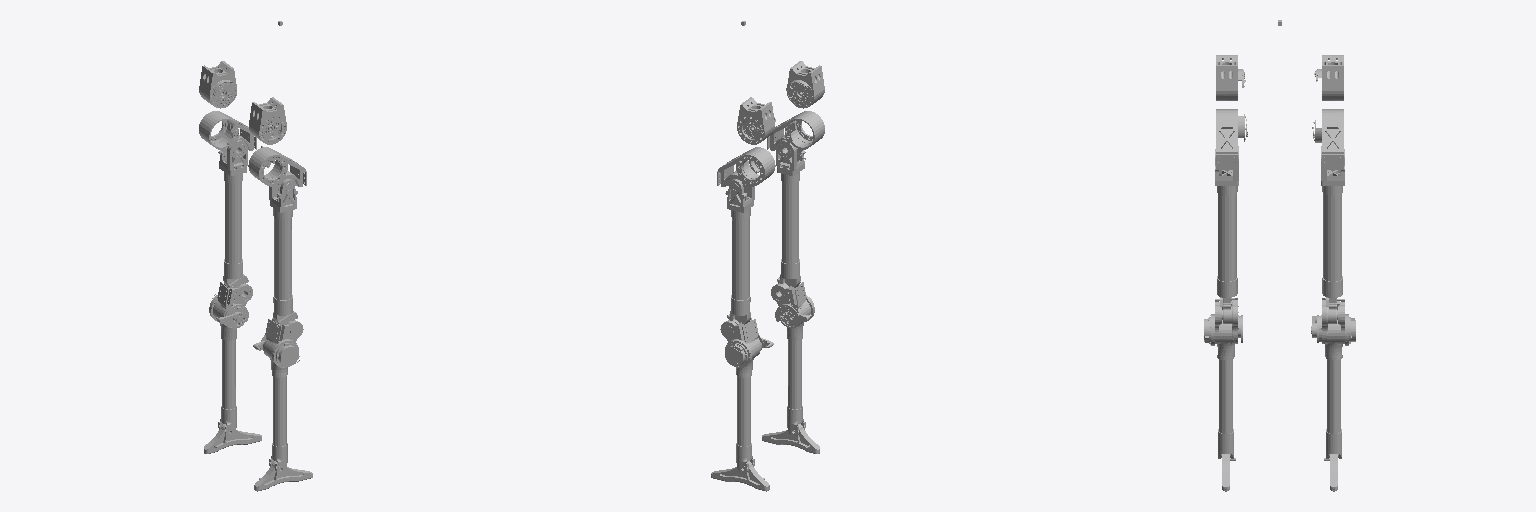
robot.urdf — casia_nnn:
<?xml version="1.0" encoding="utf-8"?>
<!-- This URDF was automatically created by SolidWorks to URDF Exporter! Originally created by [author] ([email redacted]) 
     Commit Version: 1.5.1-0-g916b5db  Build Version: 1.5.7152.31018
     For more information, please see http://wiki.ros.org/sw_urdf_exporter -->
<robot
  name="casia_nnn">
  <link
    name="pelvis">
    <inertial>
      <origin
        xyz="0.0295583628182488 3.89626767704742E-05 -0.0155783424997369"
        rpy="0 0 0" />
      <mass
        value="6.56964969274137" />
      <inertia
        ixx="0.0235604863264443"
        ixy="-2.84451907912671E-06"
        ixz="7.97597097465651E-06"
        iyy="0.014455865873678"
        iyz="-6.61650817705804E-07"
        izz="0.010763598299641" />
    </inertial>
    <visual>
      <origin
        xyz="0 0 0"
        rpy="0 0 0" />
      <geometry>
        <mesh
          filename="package://meshes/pelvis.STL" />
      </geometry>
      <material
        name="">
        <color
          rgba="0.898039215686275 0.917647058823529 0.929411764705882 1" />
      </material>
    </visual>
    <collision>
      <origin
        xyz="0 0 0"
        rpy="0 0 0" />
      <geometry>
        <mesh
          filename="package://meshes/pelvis.STL" />
      </geometry>
    </collision>
  </link>
  <link
    name="r_hip_roll">
    <inertial>
      <origin
        xyz="-0.0197574983038807 6.70238844219795E-05 -0.0794288941787985"
        rpy="0 0 0" />
      <mass
        value="1.97423093969954" />
      <inertia
        ixx="0.00185917486275064"
        ixy="1.49050941020278E-06"
        ixz="6.47326004132642E-06"
        iyy="0.00121028974020037"
        iyz="-5.40839098441053E-07"
        izz="0.00117581613527246" />
    </inertial>
    <visual>
      <origin
        xyz="0 0 0"
        rpy="0 0 0" />
      <geometry>
        <mesh
          filename="package://meshes/r_hip_roll.STL" />
      </geometry>
      <material
        name="">
        <color
          rgba="0.752941176470588 0.752941176470588 0.752941176470588 1" />
      </material>
    </visual>
    <collision>
      <origin
        xyz="0 0 0"
        rpy="0 0 0" />
      <geometry>
        <mesh
          filename="package://meshes/r_hip_roll.STL" />
      </geometry>
    </collision>
  </link>
  <joint
    name="hip_abduction_right"
    type="revolute">
    <origin
      xyz="0.018 -0.13451 -0.047805"
      rpy="0 1.5708 0" />
    <parent
      link="pelvis" />
    <child
      link="r_hip_roll" />
    <axis
      xyz="0 0 1" />
    <limit
      lower="0"
      upper="0"
      effort="0"
      velocity="0" />
  </joint>
  <link
    name="r_hip_yaw">
    <inertial>
      <origin
        xyz="-4.73889253360255E-05 0.00363016329238428 0.0883973830149817"
        rpy="0 0 0" />
      <mass
        value="2.43369646822" />
      <inertia
        ixx="0.00169395681390459"
        ixy="-1.50517004982332E-07"
        ixz="2.19244261847111E-06"
        iyy="0.0023433394596445"
        iyz="3.68852375683399E-05"
        izz="0.00159777296295112" />
    </inertial>
    <visual>
      <origin
        xyz="0 0 0"
        rpy="0 0 0" />
      <geometry>
        <mesh
          filename="package://meshes/r_hip_yaw.STL" />
      </geometry>
      <material
        name="">
        <color
          rgba="0.752941176470588 0.752941176470588 0.752941176470588 1" />
      </material>
    </visual>
    <collision>
      <origin
        xyz="0 0 0"
        rpy="0 0 0" />
      <geometry>
        <mesh
          filename="package://meshes/r_hip_yaw.STL" />
      </geometry>
    </collision>
  </link>
  <joint
    name="hip_rotation_right"
    type="revolute">
    <origin
      xyz="0 0 -0.0805"
      rpy="0 1.5708 0" />
    <parent
      link="r_hip_roll" />
    <child
      link="r_hip_yaw" />
    <axis
      xyz="0 0 1" />
    <limit
      lower="0"
      upper="0"
      effort="0"
      velocity="0" />
  </joint>
  <link
    name="r_thigh">
    <inertial>
      <origin
        xyz="0.0836860395362498 -3.7239087888552E-05 0.0307488396151617"
        rpy="0 0 0" />
      <mass
        value="5.11194929866955" />
      <inertia
        ixx="0.00348978760159565"
        ixy="3.55171620968967E-07"
        ixz="1.58824327382398E-05"
        iyy="0.00583334460011164"
        iyz="2.69951318167478E-07"
        izz="0.00789275874980473" />
    </inertial>
    <visual>
      <origin
        xyz="0 0 0"
        rpy="0 0 0" />
      <geometry>
        <mesh
          filename="package://meshes/r_thigh.STL" />
      </geometry>
      <material
        name="">
        <color
          rgba="0.752941176470588 0.752941176470588 0.752941176470588 1" />
      </material>
    </visual>
    <collision>
      <origin
        xyz="0 0 0"
        rpy="0 0 0" />
      <geometry>
        <mesh
          filename="package://meshes/r_thigh.STL" />
      </geometry>
    </collision>
  </link>
  <joint
    name="hip_flexion_right"
    type="revolute">
    <origin
      xyz="0 0 0.093"
      rpy="1.5708 -1.5708 0" />
    <parent
      link="r_hip_yaw" />
    <child
      link="r_thigh" />
    <axis
      xyz="0 0 1" />
    <limit
      lower="0"
      upper="0"
      effort="0"
      velocity="0" />
  </joint>
  <link
    name="r_knee">
    <inertial>
      <origin
        xyz="0.0399329461021631 0.0403813921291037 0.000672234013588208"
        rpy="0 0 0" />
      <mass
        value="0.793319961636066" />
      <inertia
        ixx="0.00122741647674468"
        ixy="-0.000346422316130289"
        ixz="4.7570326531063E-05"
        iyy="0.000989188932431494"
        iyz="5.58070386309392E-05"
        izz="0.00180298433143509" />
    </inertial>
    <visual>
      <origin
        xyz="0 0 0"
        rpy="0 0 0" />
      <geometry>
        <mesh
          filename="package://meshes/r_knee.STL" />
      </geometry>
      <material
        name="">
        <color
          rgba="0.752941176470588 0.752941176470588 0.752941176470588 1" />
      </material>
    </visual>
    <collision>
      <origin
        xyz="0 0 0"
        rpy="0 0 0" />
      <geometry>
        <mesh
          filename="package://meshes/r_knee.STL" />
      </geometry>
    </collision>
  </link>
  <joint
    name="knee_joint_right"
    type="revolute">
    <origin
      xyz="0.12 0 0"
      rpy="0 0 0" />
    <parent
      link="r_thigh" />
    <child
      link="r_knee" />
    <axis
      xyz="0 0 1" />
    <limit
      lower="0"
      upper="0"
      effort="0"
      velocity="0" />
  </joint>
  <link
    name="r_shin">
    <inertial>
      <origin
        xyz="0.224004991514291 0.00427070271678191 -0.000872271301322419"
        rpy="0 0 0" />
      <mass
        value="0.779006446258407" />
      <inertia
        ixx="0.000390924039802326"
        ixy="-7.34108384213993E-05"
        ixz="4.91911566620427E-05"
        iyy="0.0020489227739414"
        iyz="2.22083842326094E-06"
        izz="0.00211050664366208" />
    </inertial>
    <visual>
      <origin
        xyz="0 0 0"
        rpy="0 0 0" />
      <geometry>
        <mesh
          filename="package://meshes/r_shin.STL" />
      </geometry>
      <material
        name="">
        <color
          rgba="0.752941176470588 0.752941176470588 0.752941176470588 1" />
      </material>
    </visual>
    <collision>
      <origin
        xyz="0 0 0"
        rpy="0 0 0" />
      <geometry>
        <mesh
          filename="package://meshes/r_shin.STL" />
      </geometry>
    </collision>
  </link>
  <joint
    name="knee_to_shin_right"
    type="revolute">
    <origin
      xyz="0.0606063659916928 0.0474803567644029 0"
      rpy="0 0 0" />
    <parent
      link="r_knee" />
    <child
      link="r_shin" />
    <axis
      xyz="0 0 1" />
    <limit
      lower="0"
      upper="0"
      effort="0"
      velocity="0" />
  </joint>
  <link
    name="r_tarsus">
    <inertial>
      <origin
        xyz="0.0823305277213794 -0.0312138985436982 0.00558498897086104"
        rpy="0 0 0" />
      <mass
        value="1.83310383597026" />
      <inertia
        ixx="0.000750926602909281"
        ixy="9.90423875887288E-05"
        ixz="4.68203903642238E-05"
        iyy="0.00204547291331516"
        iyz="-3.63828390445918E-05"
        izz="0.00241749688020805" />
    </inertial>
    <visual>
      <origin
        xyz="0 0 0"
        rpy="0 0 0" />
      <geometry>
        <mesh
          filename="package://meshes/r_tarsus.STL" />
      </geometry>
      <material
        name="">
        <color
          rgba="0.752941176470588 0.752941176470588 0.752941176470588 1" />
      </material>
    </visual>
    <collision>
      <origin
        xyz="0 0 0"
        rpy="0 0 0" />
      <geometry>
        <mesh
          filename="package://meshes/r_tarsus.STL" />
      </geometry>
    </collision>
  </link>
  <joint
    name="ankle_joint_right"
    type="revolute">
    <origin
      xyz="0.43477 0.020576 0"
      rpy="0 0 0" />
    <parent
      link="r_shin" />
    <child
      link="r_tarsus" />
    <axis
      xyz="0 0 1" />
    <limit
      lower="0"
      upper="0"
      effort="0"
      velocity="0" />
  </joint>
  <link
    name="r_toe">
    <inertial>
      <origin
        xyz="0.0317994619364892 0.0131603170790473 -0.00022635503046417"
        rpy="0 0 0" />
      <mass
        value="0.190609192609847" />
      <inertia
        ixx="0.000403924999436694"
        ixy="-1.80429011464975E-05"
        ixz="3.53742182071318E-07"
        iyy="4.57189532216319E-05"
        iyz="-2.25660492217143E-06"
        izz="0.000437978007722886" />
    </inertial>
    <visual>
      <origin
        xyz="0 0 0"
        rpy="0 0 0" />
      <geometry>
        <mesh
          filename="package://meshes/r_toe.STL" />
      </geometry>
      <material
        name="">
        <color
          rgba="0.752941176470588 0.752941176470588 0.752941176470588 1" />
      </material>
    </visual>
    <collision>
      <origin
        xyz="0 0 0"
        rpy="0 0 0" />
      <geometry>
        <mesh
          filename="package://meshes/r_toe.STL" />
      </geometry>
    </collision>
  </link>
  <joint
    name="toe_joint_right"
    type="revolute">
    <origin
      xyz="0.40705 -0.039461 0.002801"
      rpy="0 0 0" />
    <parent
      link="r_tarsus" />
    <child
      link="r_toe" />
    <axis
      xyz="0 0 1" />
    <limit
      lower="0"
      upper="0"
      effort="0"
      velocity="0" />
  </joint>
  <link
    name="l_hip_roll">
    <inertial>
      <origin
        xyz="-0.0197574983038944 6.7023884433387E-05 -0.0794288941787982"
        rpy="0 0 0" />
      <mass
        value="1.97423093969954" />
      <inertia
        ixx="0.00185917486275064"
        ixy="1.49050941020278E-06"
        ixz="6.47326004132585E-06"
        iyy="0.00121028974020037"
        iyz="-5.4083909844092E-07"
        izz="0.00117581613527246" />
    </inertial>
    <visual>
      <origin
        xyz="0 0 0"
        rpy="0 0 0" />
      <geometry>
        <mesh
          filename="package://meshes/l_hip_roll.STL" />
      </geometry>
      <material
        name="">
        <color
          rgba="0.752941176470588 0.752941176470588 0.752941176470588 1" />
      </material>
    </visual>
    <collision>
      <origin
        xyz="0 0 0"
        rpy="0 0 0" />
      <geometry>
        <mesh
          filename="package://meshes/l_hip_roll.STL" />
      </geometry>
    </collision>
  </link>
  <joint
    name="hip_abduction_left"
    type="revolute">
    <origin
      xyz="0.018 0.13451 -0.047805"
      rpy="0 1.5708 0" />
    <parent
      link="pelvis" />
    <child
      link="l_hip_roll" />
    <axis
      xyz="0 0 1" />
    <limit
      lower="0"
      upper="0"
      effort="0"
      velocity="0" />
  </joint>
  <link
    name="l_hip_yaw">
    <inertial>
      <origin
        xyz="4.73889253343601E-05 -0.00363016329238436 0.08839738301498"
        rpy="0 0 0" />
      <mass
        value="2.43369646822" />
      <inertia
        ixx="0.00169395681390459"
        ixy="-1.50517004981812E-07"
        ixz="-2.19244261847011E-06"
        iyy="0.0023433394596445"
        iyz="-3.68852375683399E-05"
        izz="0.00159777296295112" />
    </inertial>
    <visual>
      <origin
        xyz="0 0 0"
        rpy="0 0 0" />
      <geometry>
        <mesh
          filename="package://meshes/l_hip_yaw.STL" />
      </geometry>
      <material
        name="">
        <color
          rgba="0.752941176470588 0.752941176470588 0.752941176470588 1" />
      </material>
    </visual>
    <collision>
      <origin
        xyz="0 0 0"
        rpy="0 0 0" />
      <geometry>
        <mesh
          filename="package://meshes/l_hip_yaw.STL" />
      </geometry>
    </collision>
  </link>
  <joint
    name="hip_rotation_left"
    type="revolute">
    <origin
      xyz="0 0 -0.0805"
      rpy="0 1.5708 0" />
    <parent
      link="l_hip_roll" />
    <child
      link="l_hip_yaw" />
    <axis
      xyz="0 0 1" />
    <limit
      lower="0"
      upper="0"
      effort="0"
      velocity="0" />
  </joint>
  <link
    name="l_thigh">
    <inertial>
      <origin
        xyz="0.0836860395010247 3.72390847572859E-05 -0.0307488396047484"
        rpy="0 0 0" />
      <mass
        value="5.11194929703251" />
      <inertia
        ixx="0.00348978760139813"
        ixy="-3.55166262190666E-07"
        ixz="-1.58824297879245E-05"
        iyy="0.00583334459702008"
        iyz="2.69951590990376E-07"
        izz="0.00789275874693963" />
    </inertial>
    <visual>
      <origin
        xyz="0 0 0"
        rpy="0 0 0" />
      <geometry>
        <mesh
          filename="package://meshes/l_thigh.STL" />
      </geometry>
      <material
        name="">
        <color
          rgba="0.752941176470588 0.752941176470588 0.752941176470588 1" />
      </material>
    </visual>
    <collision>
      <origin
        xyz="0 0 0"
        rpy="0 0 0" />
      <geometry>
        <mesh
          filename="package://meshes/l_thigh.STL" />
      </geometry>
    </collision>
  </link>
  <joint
    name="hip_flexion_left"
    type="revolute">
    <origin
      xyz="0 0 0.093"
      rpy="1.5708 -1.5708 0" />
    <parent
      link="l_hip_yaw" />
    <child
      link="l_thigh" />
    <axis
      xyz="0 0 1" />
    <limit
      lower="0"
      upper="0"
      effort="0"
      velocity="0" />
  </joint>
  <link
    name="l_knee">
    <inertial>
      <origin
        xyz="0.0404641743132291 0.0403835784985039 -0.000685006067608046"
        rpy="0 0 0" />
      <mass
        value="0.793319961636061" />
      <inertia
        ixx="0.00122740351626173"
        ixy="-0.000343235006814894"
        ixz="-4.70447692011345E-05"
        iyy="0.000989201892892774"
        iyz="-5.58065892735695E-05"
        izz="0.00180298433141555" />
    </inertial>
    <visual>
      <origin
        xyz="0 0 0"
        rpy="0 0 0" />
      <geometry>
        <mesh
          filename="package://meshes/l_knee.STL" />
      </geometry>
      <material
        name="">
        <color
          rgba="0.752941176470588 0.752941176470588 0.752941176470588 1" />
      </material>
    </visual>
    <collision>
      <origin
        xyz="0 0 0"
        rpy="0 0 0" />
      <geometry>
        <mesh
          filename="package://meshes/l_knee.STL" />
      </geometry>
    </collision>
  </link>
  <joint
    name="knee_joint_left"
    type="revolute">
    <origin
      xyz="0.12 0 0"
      rpy="0 0 0" />
    <parent
      link="l_thigh" />
    <child
      link="l_knee" />
    <axis
      xyz="0 0 1" />
    <limit
      lower="0"
      upper="0"
      effort="0"
      velocity="0" />
  </joint>
  <link
    name="l_shin">
    <inertial>
      <origin
        xyz="0.224004959095979 0.00429516982229531 0.00106622763458433"
        rpy="0 0 0" />
      <mass
        value="0.779006446234497" />
      <inertia
        ixx="0.000390924437729774"
        ixy="-7.35609796274527E-05"
        ixz="-4.91800413035149E-05"
        iyy="0.00204892237601106"
        iyz="-2.21437397537651E-06"
        izz="0.00211050664366191" />
    </inertial>
    <visual>
      <origin
        xyz="0 0 0"
        rpy="0 0 0" />
      <geometry>
        <mesh
          filename="package://meshes/l_shin.STL" />
      </geometry>
      <material
        name="">
        <color
          rgba="0.752941176470588 0.752941176470588 0.752941176470588 1" />
      </material>
    </visual>
    <collision>
      <origin
        xyz="0 0 0"
        rpy="0 0 0" />
      <geometry>
        <mesh
          filename="package://meshes/l_shin.STL" />
      </geometry>
    </collision>
  </link>
  <joint
    name="knee_to_shin_left"
    type="revolute">
    <origin
      xyz="0.060606 0.04748 0"
      rpy="0 0 0" />
    <parent
      link="l_knee" />
    <child
      link="l_shin" />
    <axis
      xyz="0 0 1" />
    <limit
      lower="0"
      upper="0"
      effort="0"
      velocity="0" />
  </joint>
  <link
    name="l_tarsus">
    <inertial>
      <origin
        xyz="0.0838576058709778 -0.0314535699541277 -0.0010671864480504"
        rpy="0 0 0" />
      <mass
        value="1.81435092928191" />
      <inertia
        ixx="0.000751056872330015"
        ixy="9.91127220118571E-05"
        ixz="-4.70797628755205E-05"
        iyy="0.00204372790410774"
        iyz="3.62886463733455E-05"
        izz="0.00241664021620057" />
    </inertial>
    <visual>
      <origin
        xyz="0 0 0"
        rpy="0 0 0" />
      <geometry>
        <mesh
          filename="package://meshes/l_tarsus.STL" />
      </geometry>
      <material
        name="">
        <color
          rgba="0.752941176470588 0.752941176470588 0.752941176470588 1" />
      </material>
    </visual>
    <collision>
      <origin
        xyz="0 0 0"
        rpy="0 0 0" />
      <geometry>
        <mesh
          filename="package://meshes/l_tarsus.STL" />
      </geometry>
    </collision>
  </link>
  <joint
    name="ankle_joint_left"
    type="revolute">
    <origin
      xyz="0.43477 0.020576 0"
      rpy="0 0 0" />
    <parent
      link="l_shin" />
    <child
      link="l_tarsus" />
    <axis
      xyz="0 0 1" />
    <limit
      lower="0"
      upper="0"
      effort="0"
      velocity="0" />
  </joint>
  <link
    name="l_toe">
    <inertial>
      <origin
        xyz="0.0317994743696841 0.0131603332538403 0.000226358171211943"
        rpy="0 0 0" />
      <mass
        value="0.190609360795269" />
      <inertia
        ixx="0.000403925511962024"
        ixy="-1.80429608046729E-05"
        ixz="-3.53743650520501E-07"
        iyy="4.57190163795821E-05"
        iyz="2.25659778841416E-06"
        izz="0.000437978587902772" />
    </inertial>
    <visual>
      <origin
        xyz="0 0 0"
        rpy="0 0 0" />
      <geometry>
        <mesh
          filename="package://meshes/l_toe.STL" />
      </geometry>
      <material
        name="">
        <color
          rgba="0.752941176470588 0.752941176470588 0.752941176470588 1" />
      </material>
    </visual>
    <collision>
      <origin
        xyz="0 0 0"
        rpy="0 0 0" />
      <geometry>
        <mesh
          filename="package://meshes/l_toe.STL" />
      </geometry>
    </collision>
  </link>
  <joint
    name="toe_joint_left"
    type="revolute">
    <origin
      xyz="0.40705 -0.039461 -0.0028"
      rpy="0 0 0" />
    <parent
      link="l_tarsus" />
    <child
      link="l_toe" />
    <axis
      xyz="0 0 1" />
    <limit
      lower="0"
      upper="0"
      effort="0"
      velocity="0" />
  </joint>
  <link
    name="vectorNav">
    <inertial>
      <origin
        xyz="0 6.02663941971435E-19 -1.38777878078145E-17"
        rpy="0 0 0" />
      <mass
        value="0.001" />
      <inertia
        ixx="1.66666666666667E-08"
        ixy="-1.85249634868463E-24"
        ixz="1.30104260698261E-24"
        iyy="1.66666666666667E-08"
        iyz="5.51453741702019E-25"
        izz="1.66666666666667E-08" />
    </inertial>
    <visual>
      <origin
        xyz="0 0 0"
        rpy="0 0 0" />
      <geometry>
        <mesh
          filename="package://meshes/vectorNav.STL" />
      </geometry>
      <material
        name="">
        <color
          rgba="0.752941176470588 0.752941176470588 0.752941176470588 1" />
      </material>
    </visual>
    <collision>
      <origin
        xyz="0 0 0"
        rpy="0 0 0" />
      <geometry>
        <mesh
          filename="package://meshes/vectorNav.STL" />
      </geometry>
    </collision>
  </link>
  <joint
    name="pelvis_to_vectorNav"
    type="fixed">
    <origin
      xyz="0.05413 0 0.085"
      rpy="0 0 0" />
    <parent
      link="pelvis" />
    <child
      link="vectorNav" />
    <axis
      xyz="0 0 0" />
  </joint>
</robot>

--- What the picture shows (computed from the rendered views, not written in the file) ---
Views: 3 orthographic renders of the robot side by side, from view 1: azimuth 30°, elevation 25°; view 2: azimuth 150°, elevation 25°; view 3: azimuth 270°, elevation 25°.
Robot: casia_nnn — 16 links, 15 joints (14 revolute, 1 fixed); root link pelvis; default pose: every joint at zero.
Links seen in each view (by area): view 1: r_tarsus, l_tarsus, r_shin, l_shin, r_knee, l_knee, r_hip_yaw, l_hip_yaw, l_toe, r_toe; view 2: l_tarsus, r_tarsus, r_shin, l_shin, l_knee, r_knee, l_hip_yaw, r_hip_yaw, r_toe, l_toe; view 3: l_tarsus, r_tarsus, r_shin, l_shin, r_knee, l_knee, r_hip_yaw, l_hip_yaw.
Boxes of the visible links, x1,y1,x2,y2 form: r_tarsus: (253, 318, 303, 473); l_tarsus: (209, 282, 252, 436); r_shin: (269, 179, 298, 334); l_shin: (218, 140, 250, 299); r_knee: (248, 146, 306, 191); l_knee: (199, 111, 256, 155); r_hip_yaw: (249, 97, 286, 144); l_hip_yaw: (199, 61, 236, 108); l_toe: (204, 424, 261, 453); r_toe: (254, 461, 312, 491); l_tarsus: (720, 318, 773, 473); r_tarsus: (771, 282, 814, 436); r_shin: (773, 140, 805, 299); l_shin: (725, 179, 754, 334); l_knee: (717, 147, 775, 191); r_knee: (767, 111, 824, 155); l_hip_yaw: (737, 97, 775, 144); r_hip_yaw: (786, 61, 824, 108); r_toe: (762, 424, 819, 453); l_toe: (711, 461, 769, 491); l_tarsus: (1311, 298, 1355, 458); r_tarsus: (1204, 298, 1242, 458); r_shin: (1215, 146, 1238, 323); l_shin: (1321, 146, 1344, 323); r_knee: (1216, 109, 1247, 169); l_knee: (1312, 109, 1343, 169); r_hip_yaw: (1216, 55, 1245, 100); l_hip_yaw: (1314, 55, 1343, 100).
Bounding box of the posed robot: 0.1819 × 0.384 × 1.31 m (x, y, z).
Meshes: 16 distinct files referenced, 11 mesh visuals loaded (11 binary STL); not drawn: 5 (reference not matched to a file when rendering).